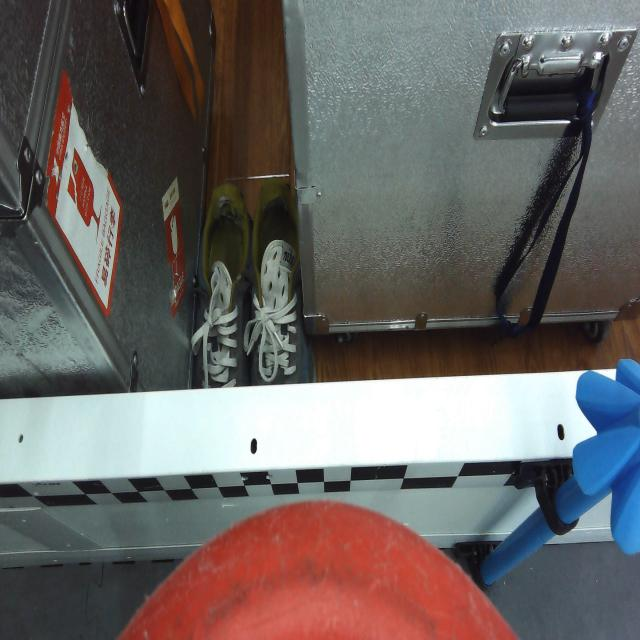zblue-Stake-Head: (574, 358, 640, 552)
